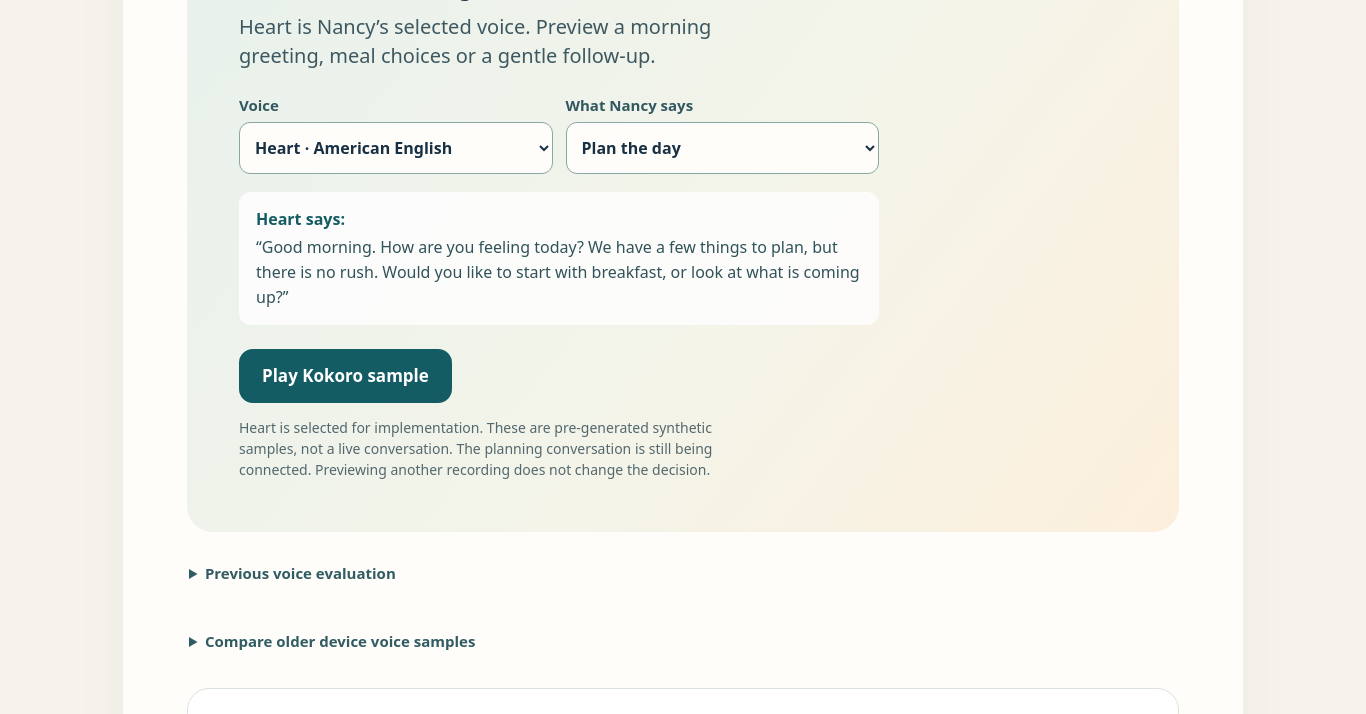
phone device preview › stops pending Kokoro playback on selection and ignores its late completion
(page scrolled)
Click the button "Play Kokoro sample" at (345, 376), box [239,349,452,403]
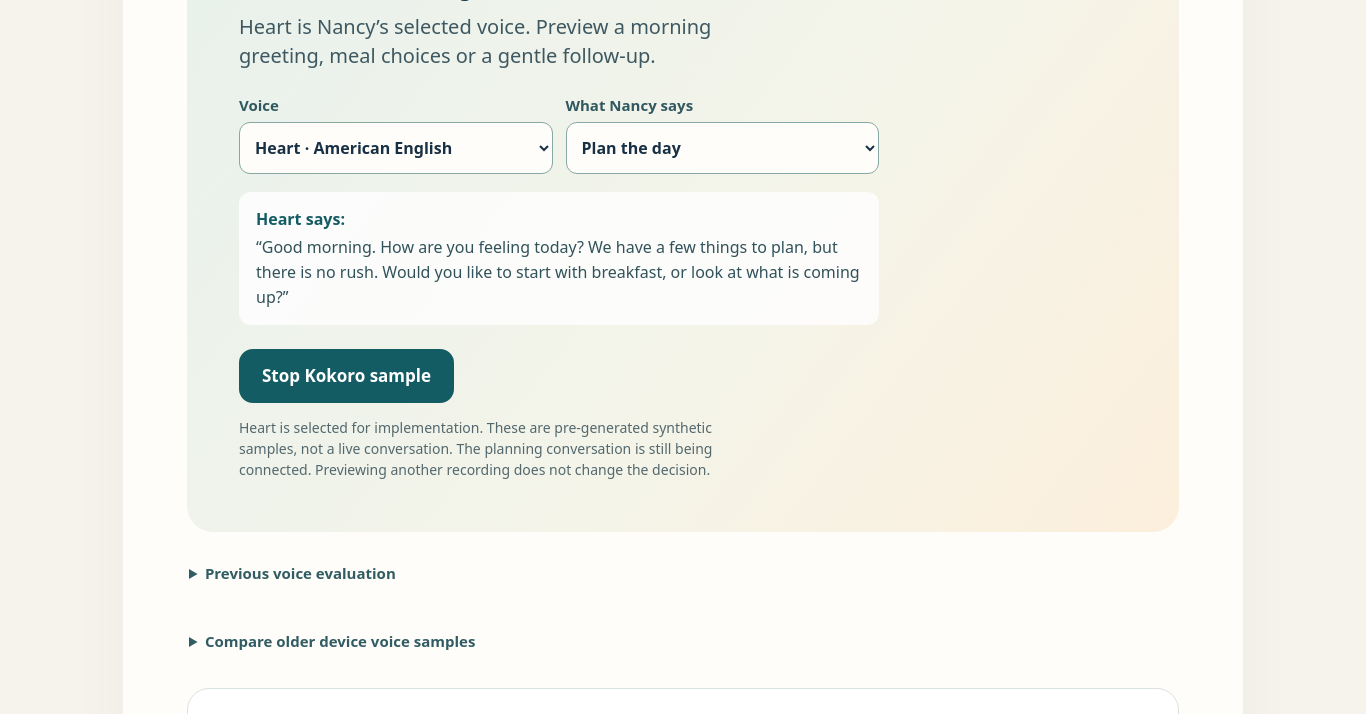
Expected: the button "Stop Kokoro sample" is shown, [239,349,454,403]
Select "Revisit a task" in the dropdown named "Kokoro sample" at (722, 148), box [566,122,879,174]
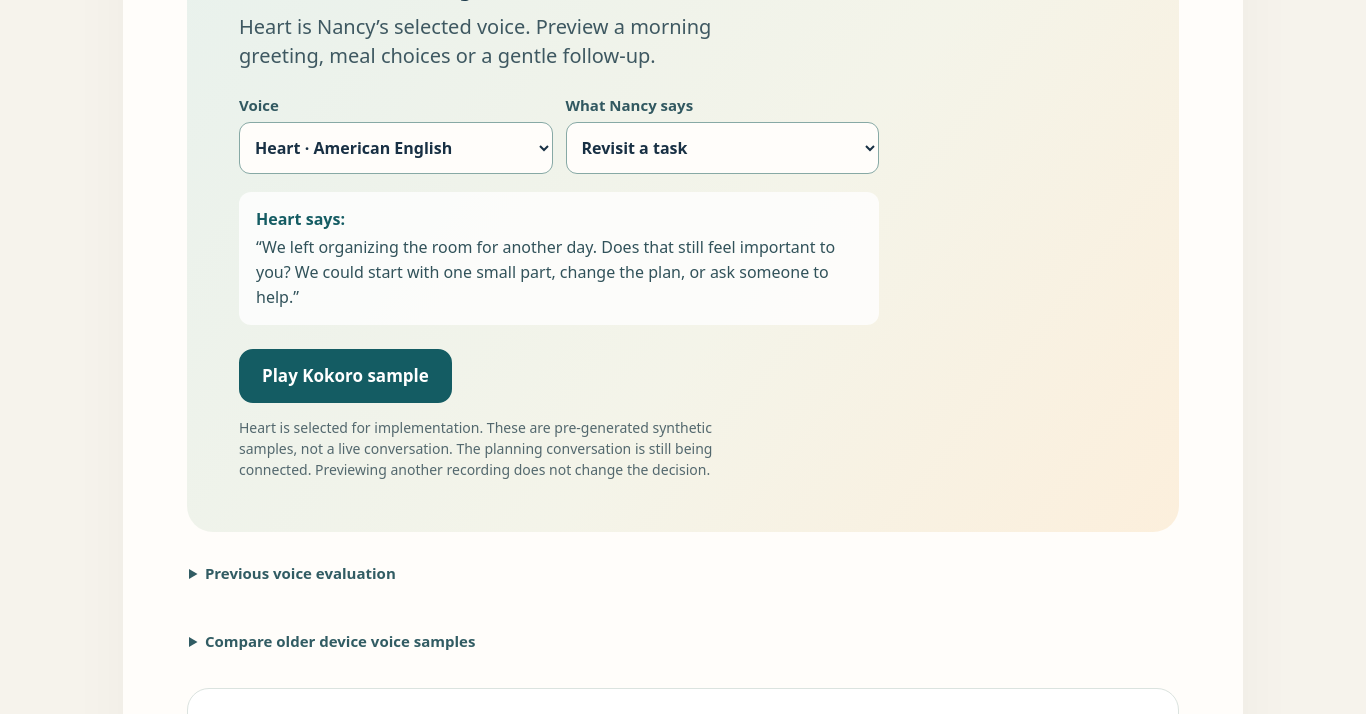
Expected: the button "Play Kokoro sample" is shown, [239,349,452,403]
